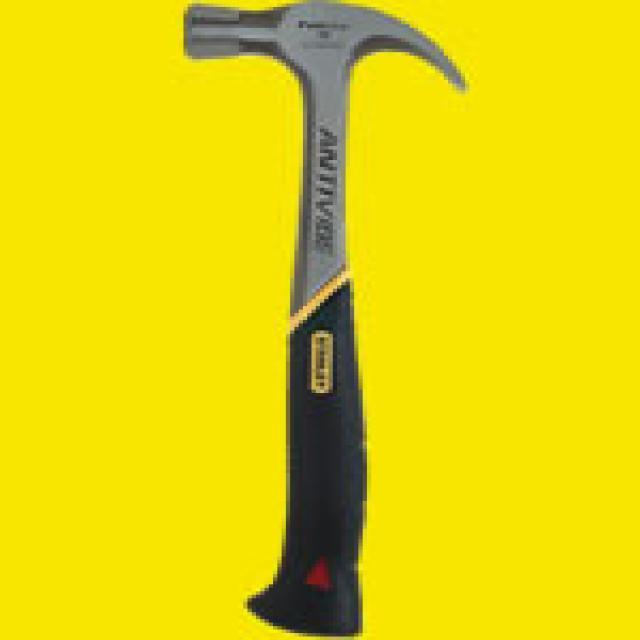hammer: (162, 1, 488, 638)
